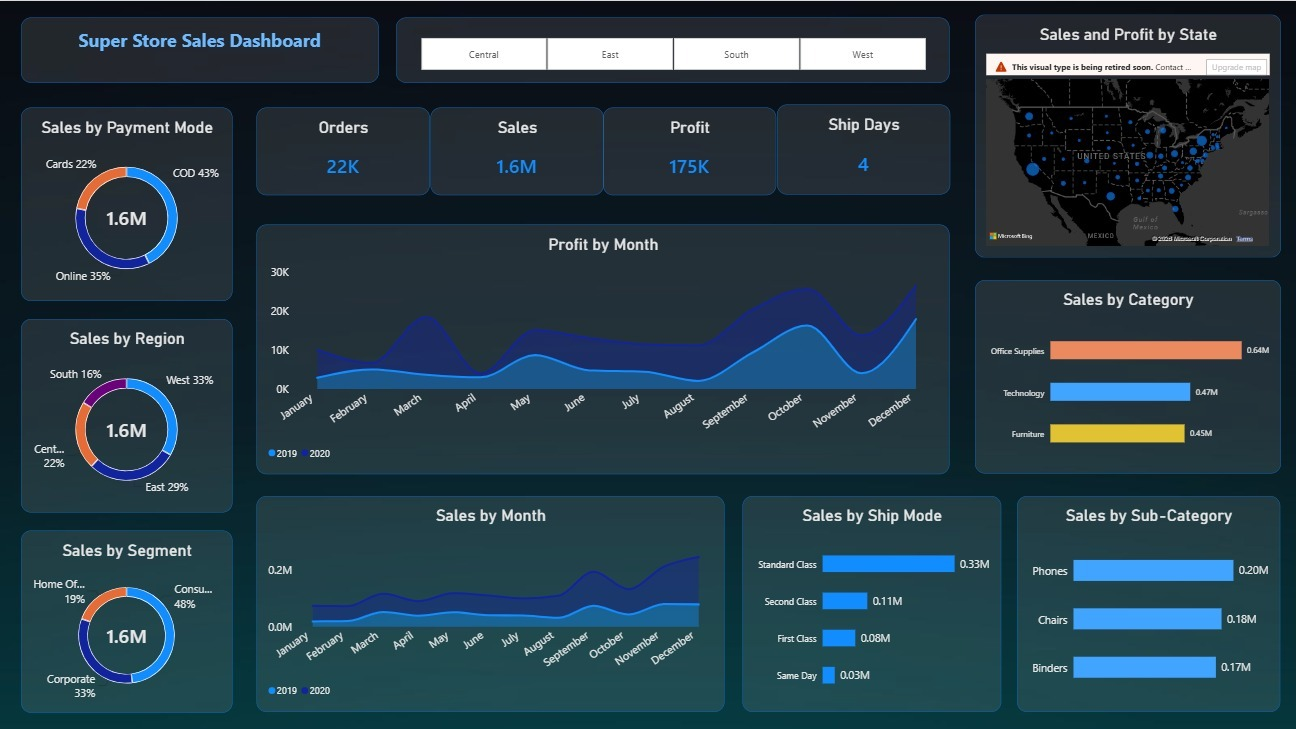

The page's visual inventory and layout, read from the dashboard file:
{"tool":"powerbi","page":{"name":"Page 1","canvas":[1920,1080],"ordinal":0},"visuals":[{"type":"clusteredBarChart","title":"Sales by Category","fields":{"Category":["Sheet1.Category"],"Y":["Sum(Sheet1.Sales)"]},"box":[1443.3,413.3,453.3,286.7],"z":0},{"type":"clusteredBarChart","title":"Sales by Sub-Category","fields":{"Category":["Sheet1.Sub-Category"],"Y":["Sum(Sheet1.Sales)"]},"box":[1506.7,733.3,390,320],"z":1000},{"type":"clusteredBarChart","title":"Sales by Ship Mode","fields":{"Category":["Sheet1.Ship Mode"],"Y":["Sum(Sheet1.Sales)"]},"box":[1100,733.3,383.3,320],"z":2000},{"type":"stackedAreaChart","title":"Sales by Month","fields":{"Category":["Sheet1.Order Date.Variation.Date Hierarchy.Month"],"Series":["Sheet1.Order Date.Variation.Date Hierarchy.Year"],"Y":["Sum(Sheet1.Sales)"]},"box":[380,733.3,693.3,320],"z":3000},{"type":"stackedAreaChart","title":"Profit by Month","fields":{"Category":["Sheet1.Order Date.Variation.Date Hierarchy.Month"],"Series":["Sheet1.Order Date.Variation.Date Hierarchy.Year"],"Y":["Sum(Sheet1.Profit)"]},"box":[380,330,1026.7,370],"z":4000},{"type":"map","title":"Sales and Profit by State","fields":{"Category":["Sheet1.State"],"Size":["Sum(Sheet1.Sales)"]},"box":[1443.3,20,453.3,360],"z":5000},{"type":"donutChart","title":"Sales by Segment","fields":{"Category":["Sheet1.Segment"],"Y":["Sum(Sheet1.Sales)"]},"box":[30,783.3,313.3,270],"z":6000},{"type":"donutChart","title":"Sales by Payment Mode","fields":{"Category":["Sheet1.Payment Mode"],"Y":["Sum(Sheet1.Sales)"]},"box":[30,156.7,313.3,286.7],"z":7000},{"type":"donutChart","title":"Sales by Region","fields":{"Category":["Sheet1.Region"],"Y":["Sum(Sheet1.Sales)"]},"box":[30,470,313.3,286.7],"z":8000},{"type":"slicer","fields":{"Values":["Sheet1.Region"]},"box":[586.7,23.3,820,96.7],"z":9000},{"type":"textbox","box":[30,23.3,530,96.7],"z":10000},{"type":"cardVisual","title":"Sales","fields":{"Data":["Sum(Sheet1.Sales)"]},"box":[636.7,156.7,256.7,130],"z":11000},{"type":"cardVisual","title":"Orders","fields":{"Data":["Sum(Sheet1.Quantity)"]},"box":[380,156.7,256.7,130],"z":12000},{"type":"cardVisual","title":"Profit","fields":{"Data":["Sum(Sheet1.Profit)"]},"box":[893.3,156.7,256.7,130],"z":13000},{"type":"cardVisual","title":"Ship Days","fields":{"Data":["Avg(Sheet1.AvgDelivery)"]},"box":[1150,153.3,256.7,133.3],"z":14000}]}

Visuals, with their boxes in screenshot pixels (x1, y1, x2, y2), scaled from the page's 1920x1080 canvas onto the 1296x729 screenshot:
"Sales by Category" clusteredBarChart: [974, 279, 1280, 473]
"Sales by Sub-Category" clusteredBarChart: [1017, 495, 1280, 711]
"Sales by Ship Mode" clusteredBarChart: [742, 495, 1001, 711]
"Sales by Month" stackedAreaChart: [256, 495, 724, 711]
"Profit by Month" stackedAreaChart: [256, 223, 950, 473]
"Sales and Profit by State" map: [974, 14, 1280, 256]
"Sales by Segment" donutChart: [20, 529, 232, 711]
"Sales by Payment Mode" donutChart: [20, 106, 232, 299]
"Sales by Region" donutChart: [20, 317, 232, 511]
slicer - Sheet1.Region: [396, 16, 950, 81]
textbox: [20, 16, 378, 81]
"Sales" cardVisual: [430, 106, 603, 194]
"Orders" cardVisual: [256, 106, 430, 194]
"Profit" cardVisual: [603, 106, 776, 194]
"Ship Days" cardVisual: [776, 103, 950, 193]
